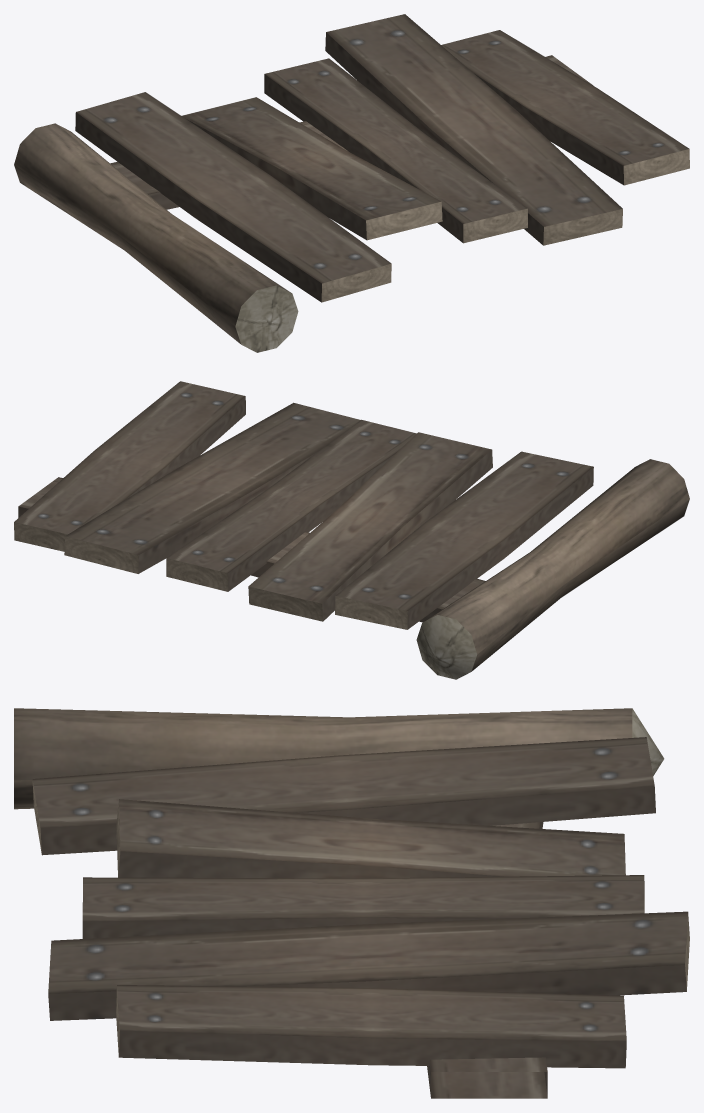
Rendered from Fence_Type_02_A_Left.fbx.
The picture shows the model from 3 angles, top to bottom: view 1: azimuth 30°, elevation 25°; view 2: azimuth 150°, elevation 25°; view 3: azimuth 270°, elevation 25°; orthographic projection. The views are drawn at different scales.
Visible parts, largest first — view 1: Fence_Type_02_Left_A; view 2: Fence_Type_02_Left_A; view 3: Fence_Type_02_Left_A.
Boxes of the visible parts, <box> form: Fence_Type_02_Left_A: <box>14,14,689,352</box>; Fence_Type_02_Left_A: <box>14,381,689,679</box>; Fence_Type_02_Left_A: <box>14,708,689,1098</box>.
Size of the model in its own units: 2.03 by 0.2647 by 1.68.
